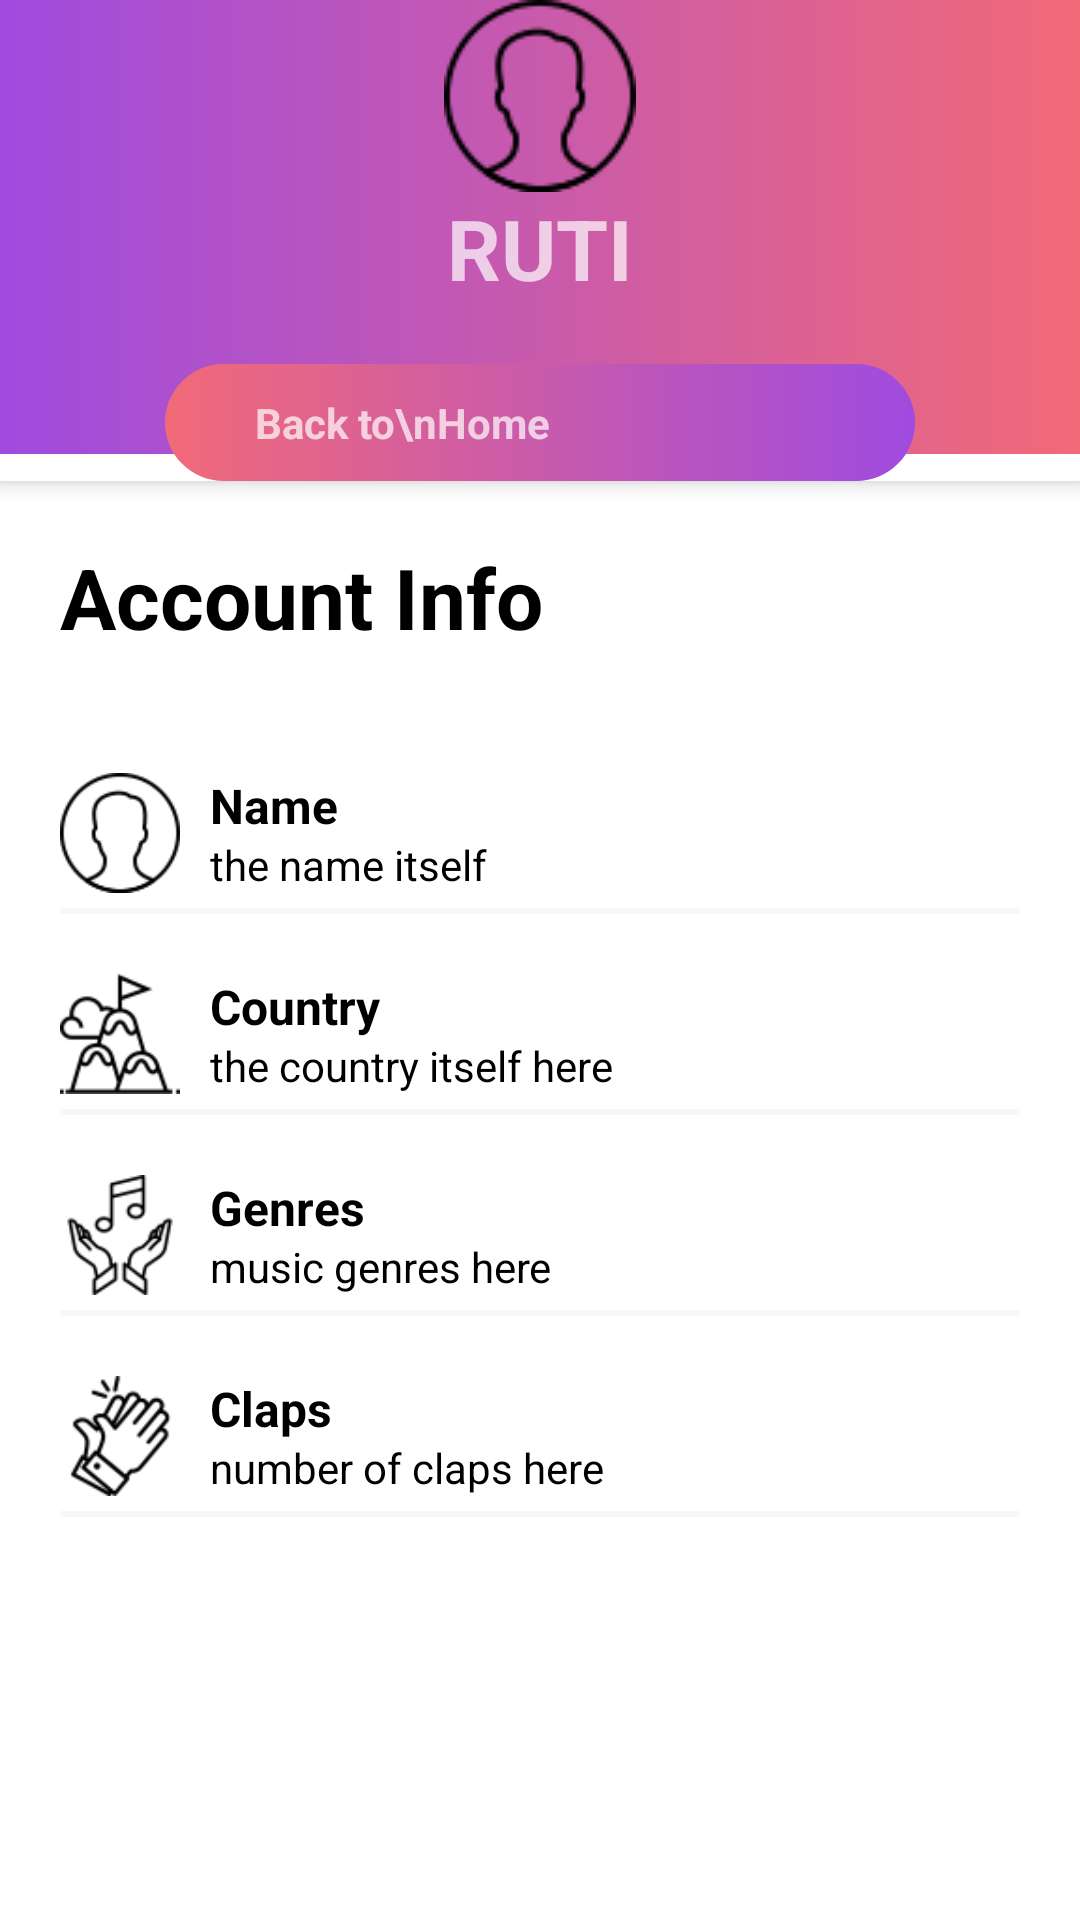

Where to tap for icons on this 1080x1920 app screen, as (x,y):
man: (540,96), (120,833)
mountain peak: (120,1034)
music note: (120,1235)
